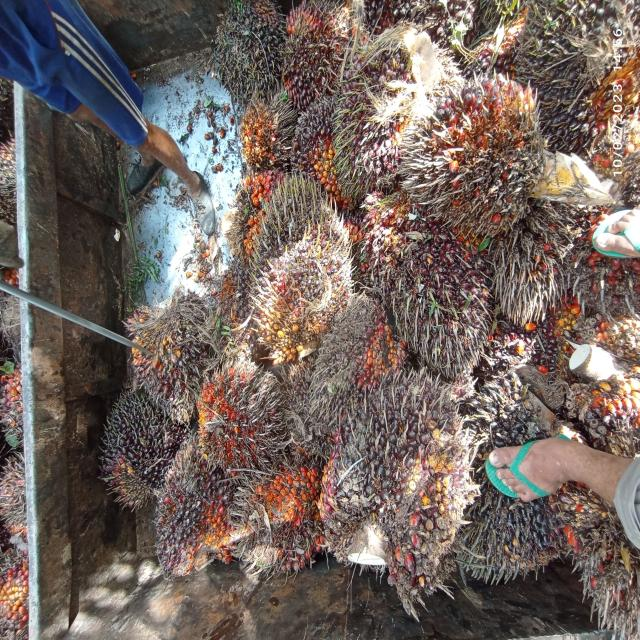fraksi 00: (314, 350, 475, 623), (440, 360, 571, 616), (245, 174, 365, 350), (307, 287, 423, 438), (83, 384, 193, 502), (131, 290, 211, 434), (215, 1, 284, 102), (292, 88, 343, 204)
fraksi 1: (359, 172, 537, 377), (327, 18, 448, 186), (143, 444, 251, 584), (280, 0, 339, 108)
fraksi 4: (407, 67, 549, 230), (179, 350, 289, 479), (231, 460, 331, 592)
